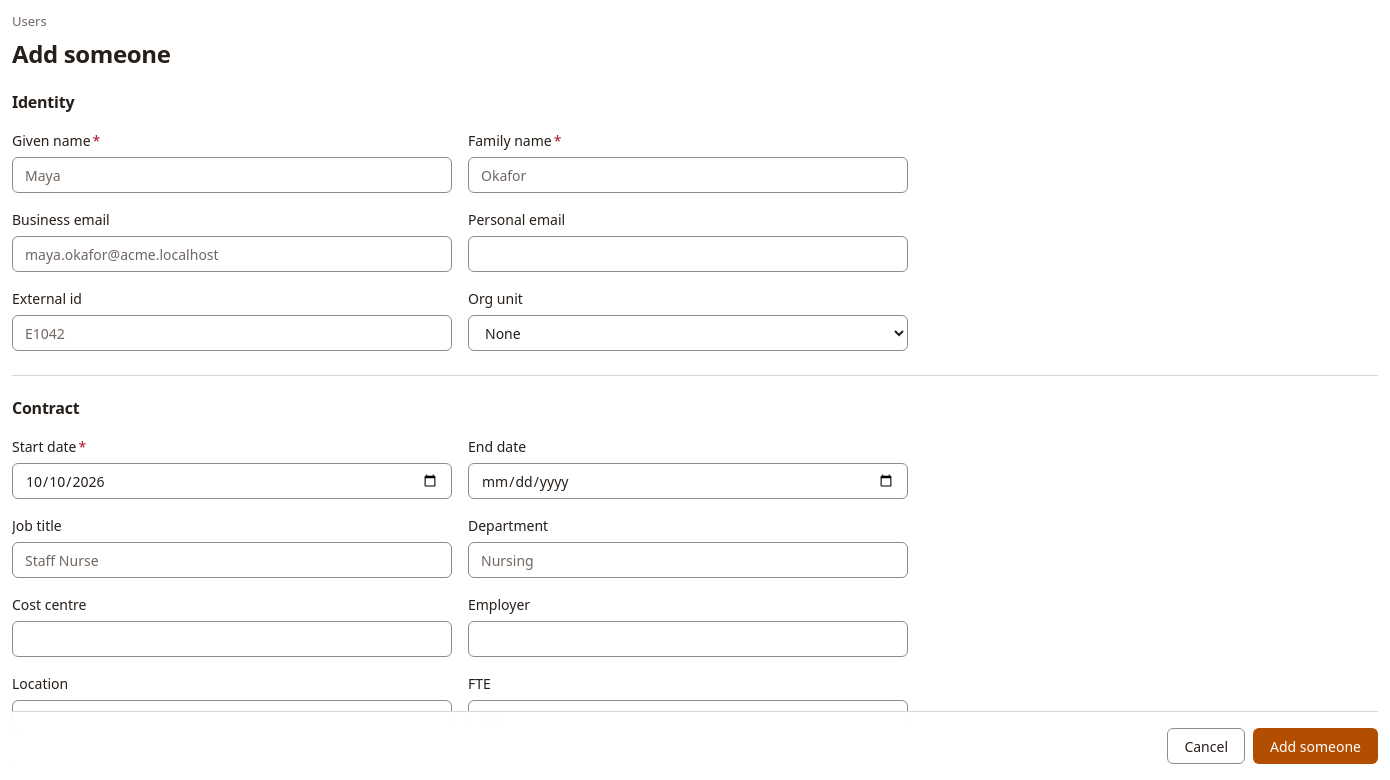
Test case: OnboardPersonPage › lists every missing required field before writing anything
Clear the date field labelled "Start date". click: (232, 481)
box: [12, 463, 452, 499]
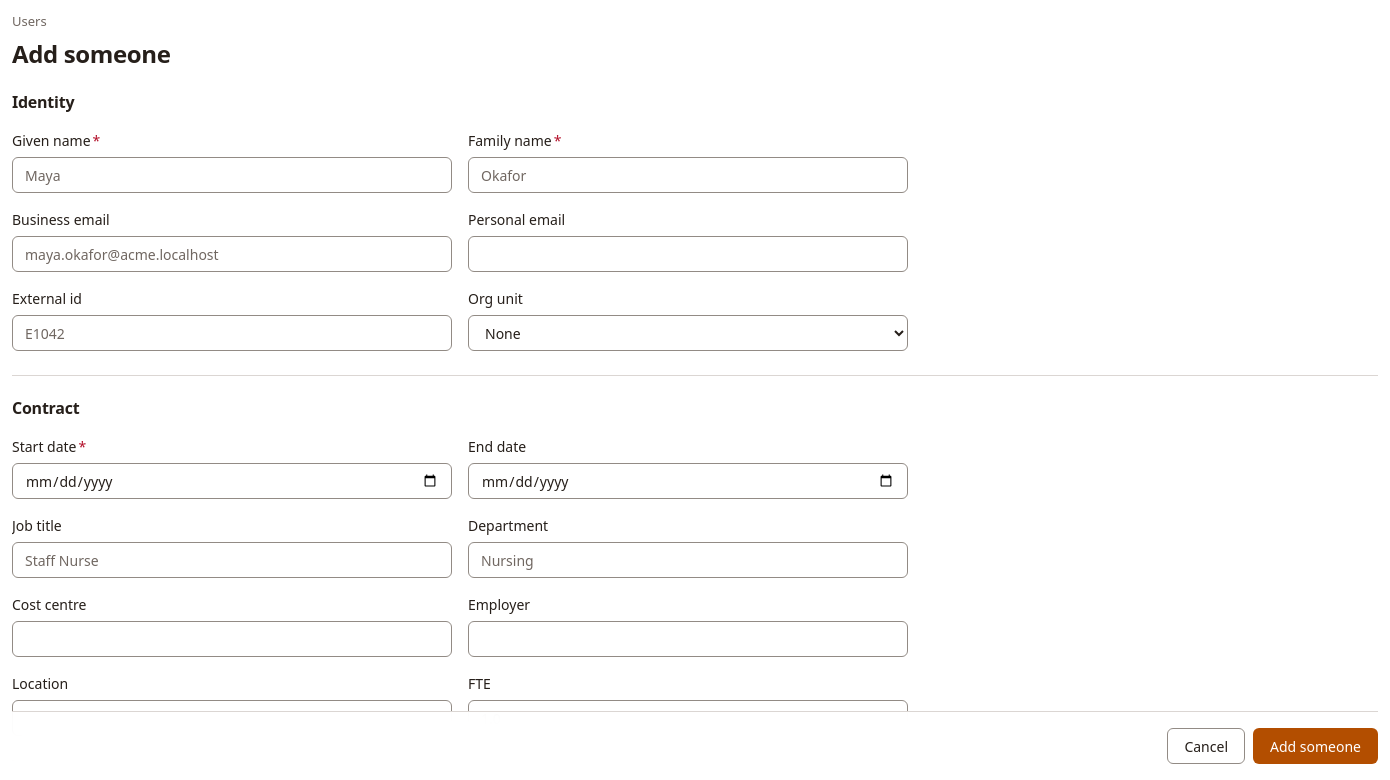
Click the button "Add someone". click: (1316, 746)
box: [1253, 728, 1378, 764]
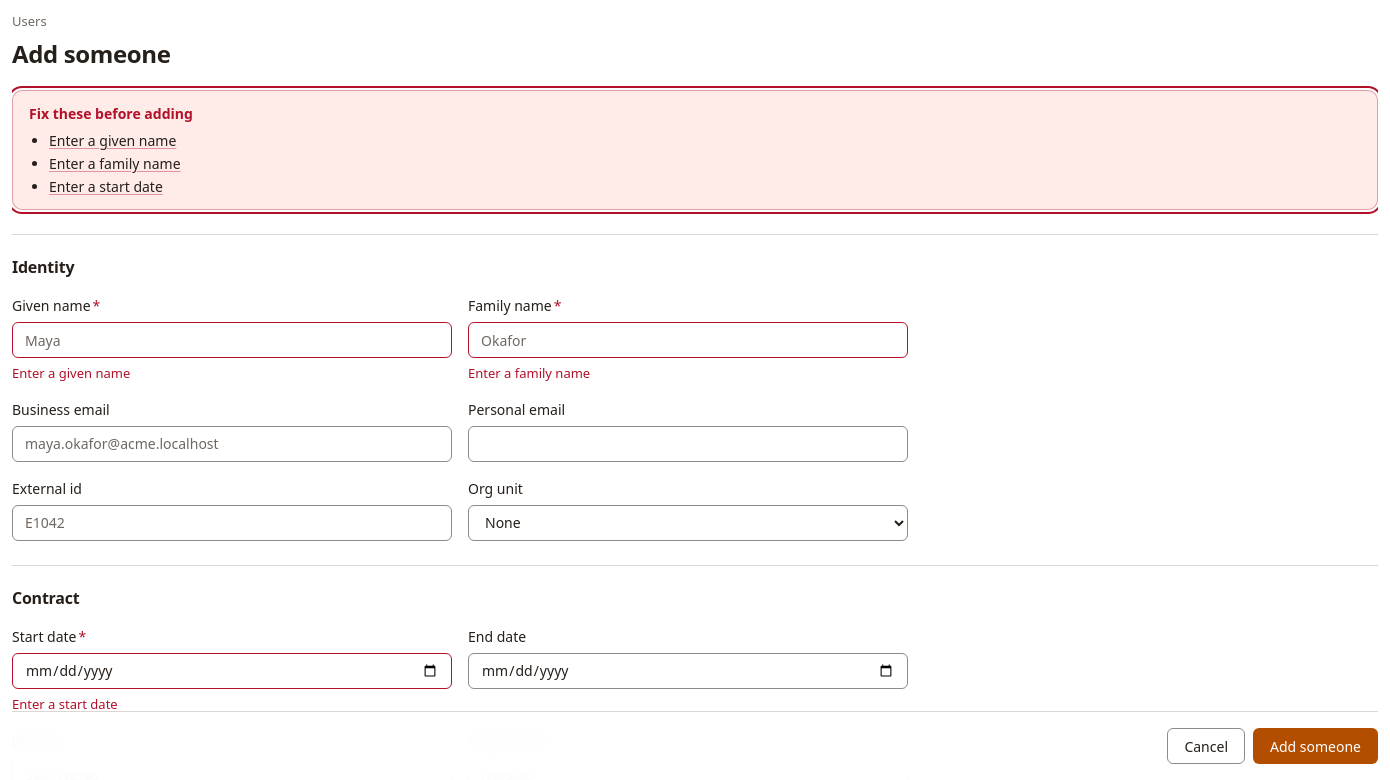
Now the button "Enter a given name" is shown, box [49, 130, 176, 151]
Now the button "Enter a family name" is shown, box [49, 153, 181, 174]
Now the button "Enter a start date" is shown, box [49, 176, 163, 197]
